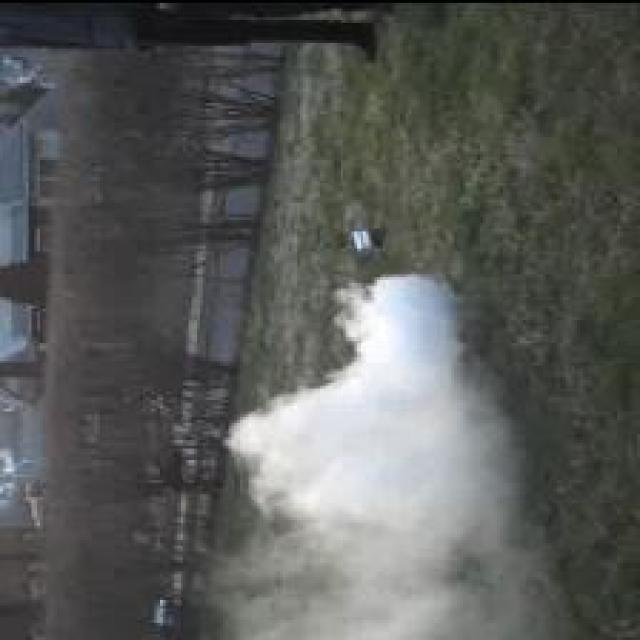Smoke: (221, 271, 539, 640)
